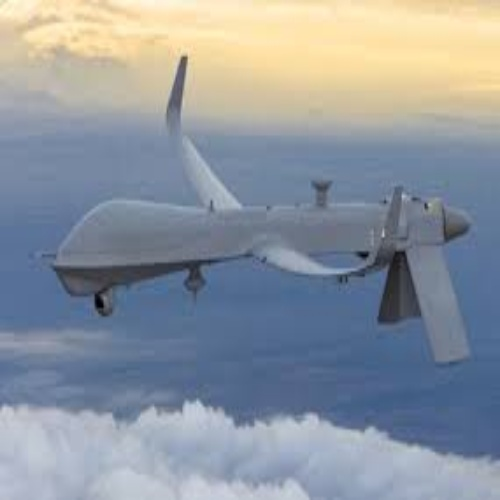uav333: (42, 52, 477, 369)
